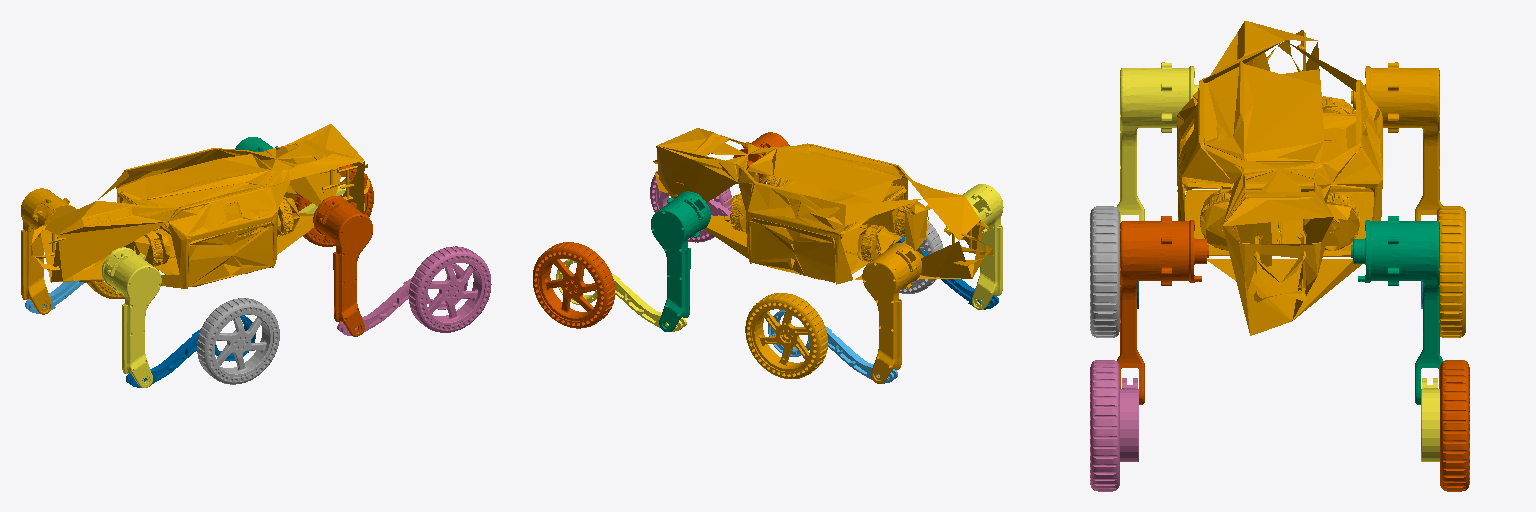
The robot description file, URDF, robot "VQR_01":
<?xml version="1.0" encoding="utf-8"?>
<!-- This URDF was automatically created by SolidWorks to URDF Exporter! Originally created by Stephen Brawner (brawner@gmail.com) 
     Commit Version: 1.6.0-4-g7f85cfe  Build Version: 1.6.7995.38578
     For more information, please see http://wiki.ros.org/sw_urdf_exporter -->
<robot name="VQR_01">
    <mujoco>
        <compiler meshdir="../meshes/" balanceinertia="false" discardvisual="false" fusestatic="false"/>
    </mujoco>
  <!-- <link name="base_link">
    <inertial>
      <origin xyz="0.0 0.0 0.0"/>
      <mass value="1e-12" />
      <inertia ixx="1e-12" ixy="0" ixz="0" iyy="1e-12" iyz="0" izz="1e-12" />
    </inertial>
  </link> -->

  <link name="TORSO">
    <inertial>
      <mass value="17.46" />
      <inertia ixx="0.241554" ixy="0" ixz="0" iyy="0.524066" iyz="0" izz="0.447501" />
    </inertial>
    <visual>
      <geometry>
        <mesh filename="../meshes/torso.STL"/>
      </geometry>
    </visual>
    <collision>
      <geometry>
        <box size="0.7 0.08 0.18"/>
      </geometry>
    </collision>
  </link>

  <!-- <joint name="base_joint" type="fixed">
    <parent link="base_link" />
    <child link="torso" />
  </joint> -->

  <link name="FL_HIP">
    <inertial>
      <origin xyz="0 0 0"/>
      <mass value="1" />
      <inertia ixx="0.00078043" ixy="0" ixz="0" iyy="0.00068757" iyz="0" izz="0.00078043" />
    </inertial>
    <visual>
      <origin xyz="-0.056 0 0" rpy="0 3.141592 0" />
      <geometry>
        <mesh filename="../meshes/hip.STL"/>
      </geometry>
    </visual>
  </link>

  <joint name="FL_HipX_joint" type="revolute">
    <origin xyz="0.1924 0.07 -0.0255"  />
    <parent link="TORSO" />
    <child link="FL_HIP" />
    <axis xyz="-1 0 0" />
    <dynamics damping="0.0" friction="0.0"/>
    <limit lower="-0.7854" upper="0.7854" effort="60" velocity="14.66" />
  </joint>

  <link name="FL_THIGH">
    <inertial>
      <origin xyz="0 0.06 -0.08"  />
      <mass value="1.5" />
      <inertia ixx="0.0104" ixy="0" ixz="0" iyy="0.0082" iyz="0" izz="0.0033"/>
    </inertial>
    <visual>
      <geometry>
        <mesh filename="../meshes/thigh.STL"/>
      </geometry>
    </visual>
    <collision>
      <origin xyz="-0.01 0.1 -0.07" rpy="0 0 0"/>
      <geometry>
        <box size="0.04 0.045 0.24"/>
      </geometry>
    </collision>
  </link>

  <joint name="FL_HipY_joint" type="revolute">
    <origin xyz="0.056 0.03 0"  />
    <parent link="FL_HIP" />
    <child link="FL_THIGH" />
    <axis xyz="0 -1 0" />
    <dynamics damping="0.0" friction="0.0"/>
    <limit lower="-3.4" upper="2.4" effort="60" velocity="14.66" />
  </joint>

  <link name="FL_SHANK">
    <inertial>
      <origin xyz="0 0.01 -0.08"  />
      <mass value="0.15" />
      <inertia ixx="0.00089039" ixy="0" ixz="0" iyy="0.00090672" iyz="0" izz="3.1266E-05" />
    </inertial>
    <visual>
      <geometry>
        <mesh filename="../meshes/shank.STL"/>
      </geometry>
    </visual>
    <collision>
      <origin xyz="0 0.01 -0.1" rpy="0 0 0"/>
      <geometry>
        <cylinder length="0.12" radius="0.015"/>
      </geometry>
    </collision>
  
  </link>

  <joint name="FL_Knee_joint" type="revolute">
    <origin xyz="0 0.094 -0.212"  />
    <parent link="FL_THIGH" />
    <child link="FL_SHANK" />
    <axis xyz="0 -1 0" />
    <dynamics damping="0.0" friction="0.0"/>
    <limit lower="0.8116" upper="2.7663" effort="60" velocity="14.66" />
  </joint>

  <link name="FR_HIP">
    <inertial>
      <origin xyz="0 0 0" rpy="3.14159 0 0" />
      <mass value="1" />
      <inertia ixx="0.00078043" ixy="0" ixz="0" iyy="0.00068757" iyz="0" izz="0.00078043" />
    </inertial>
    <visual>
      <origin xyz="-0.056 0 0" rpy="0 3.141592 0" />
      <geometry>
        <mesh filename="../meshes/hip.STL" scale="1 -1 1"/>
      </geometry>
    </visual>
  </link>

  <joint name="FR_HipX_joint" type="revolute">
    <origin xyz="0.1924 -0.07 -0.0255"  />
    <parent link="TORSO" />
    <child link="FR_HIP" />
    <axis xyz="-1 0 0" />
    <dynamics damping="0.0" friction="0.0"/>
    <limit lower="-0.7854" upper="0.7854" effort="60" velocity="14.66" />
  </joint>

  <link name="FR_THIGH">
    <inertial>
      <origin xyz="0 -0.06 -0.08"  />
      <mass value="1.5" />
      <!-- FIX: see FL_THIGH. Old tensor violated the inertia triangle inequality. -->
      <inertia ixx="0.0104" ixy="0" ixz="0" iyy="0.0082" iyz="0" izz="0.0033" />
    </inertial>
    <visual>
      <geometry>
        <mesh filename="../meshes/thigh.STL" scale="1 -1 1"/>
      </geometry>
    </visual>
    <collision>
      <!-- FIX: see FL_THIGH - closes the collision-free band around the knee joint. -->
      <origin xyz="-0.01 -0.1 -0.07" rpy="0 0 0"/>
      <geometry>
        <box size="0.04 0.045 0.24"/>
      </geometry>
    </collision>
  
  </link>

  <joint name="FR_HipY_joint" type="revolute">
    <origin xyz="0.056 -0.03 0"  />
    <parent link="FR_HIP" />
    <child link="FR_THIGH" />
    <axis xyz="0 -1 0" />
    <dynamics damping="0.0" friction="0.0"/>
    <limit lower="-3.4" upper="2.4" effort="60" velocity="14.66" />
  </joint>

  <link name="FR_SHANK">
    <inertial>
      <origin xyz="0 -0.01 -0.08"  />
      <mass value="0.15" />
      <inertia ixx="0.00089039" ixy="0" ixz="0" iyy="0.00090672" iyz="0" izz="3.1266E-05" />
    </inertial>
    <visual>
      <geometry>
        <mesh filename="../meshes/shank.STL" scale="1 -1 1"/>
      </geometry>
    </visual>
    <collision>
      <origin xyz="0 -0.01 -0.1" rpy="0 0 0"/>
      <geometry>
        <cylinder length="0.12" radius="0.015"/>
      </geometry>
    </collision>
  
  </link>

  <joint name="FR_Knee_joint" type="revolute">
    <origin xyz="0 -0.094 -0.212"  />
    <parent link="FR_THIGH" />
    <child link="FR_SHANK" />
    <axis xyz="0 -1 0" />
    <dynamics damping="0.0" friction="0.0"/>
    <limit lower="0.8116" upper="2.7663" effort="60" velocity="14.66" />
  </joint>

  <link name="HL_HIP">
    <inertial>
      <origin xyz="0 0 0" rpy="0 3.14159 0" />
      <mass value="1" />
      <inertia ixx="0.00078043" ixy="0" ixz="0" iyy="0.00068757" iyz="0" izz="0.00078043" />
    </inertial>
    <visual>
      <origin xyz="0.056 0 0" rpy="0 3.141592 0" />
      <geometry>
        <mesh filename="../meshes/hip.STL" scale="-1 1 1"/>
      </geometry>
    </visual>
  </link>

  <joint name="HL_HipX_joint" type="revolute">
    <origin xyz="-0.1924 0.07 -0.0255"  />
    <parent link="TORSO" />
    <child link="HL_HIP" />
    <axis xyz="-1 0 0" />
    <dynamics damping="0.0" friction="0.0"/>
    <limit lower="-0.7854" upper="0.7854" effort="60" velocity="14.66" />
  </joint>

  <link name="HL_THIGH">
    <inertial>
      <origin xyz="0 0.06 -0.08"  />
      <mass value="1.5" />
      <inertia ixx="0.0104" ixy="0" ixz="0" iyy="0.0082" iyz="0" izz="0.0033" />
    </inertial>
    <visual>
      <geometry>
        <mesh filename="../meshes/thigh.STL"/>
      </geometry>
    </visual>
    <collision>
      <origin xyz="-0.01 0.1 -0.07" rpy="0 0 0"/>
      <geometry>
        <box size="0.04 0.045 0.24"/>
      </geometry>
    </collision>
  
  </link>

  <joint name="HL_HipY_joint" type="revolute">
    <origin xyz="-0.056 0.03 0"  />
    <parent link="HL_HIP" />
    <child link="HL_THIGH" />
    <axis xyz="0 -1 0" />
    <dynamics damping="0.0" friction="0.0"/>
    <limit lower="-3.4" upper="2.4" effort="60" velocity="14.66" />
  </joint>

  <link name="HL_SHANK">
    <inertial>
      <origin xyz="0 0.01 -0.08"  />
      <mass value="0.15" />
      <inertia ixx="0.00089039" ixy="0" ixz="0" iyy="0.00090672" iyz="0" izz="3.1266E-05" />
    </inertial>
    <visual>
      <geometry>
        <mesh filename="../meshes/shank.STL"/>
      </geometry>
    </visual>
    <collision>
      <origin xyz="0 0.01 -0.1" rpy="0 0 0"/>
      <geometry>
        <cylinder length="0.12" radius="0.015"/>
      </geometry>
    </collision>
  
  </link>

  <joint name="HL_Knee_joint" type="revolute">
    <origin xyz="0 0.094 -0.212"  />
    <parent link="HL_THIGH" />
    <child link="HL_SHANK" />
    <axis xyz="0 -1 0" />
    <dynamics damping="0.0" friction="0.0"/>
    <limit lower="0.8116" upper="2.7663" effort="60" velocity="14.66" />
  </joint>

  <link name="HR_HIP">
    <inertial>
      <origin xyz="0 0 0" rpy="3.14159 3.14159 0" />
      <mass value="1" />
      <inertia ixx="0.00078043" ixy="0" ixz="0" iyy="0.00068757" iyz="0" izz="0.00078043" />
    </inertial>
    <visual>
      <origin xyz="0.056 0 0" rpy="0 3.141592 0" />
      <geometry>
        <mesh filename="../meshes/hip.STL" scale="-1 -1 1"/>
      </geometry>
    </visual>
  </link>

  <joint name="HR_HipX_joint" type="revolute">
    <origin xyz="-0.1924 -0.07 -0.0255"  />
    <parent link="TORSO" />
    <child link="HR_HIP" />
    <axis xyz="-1 0 0" />
    <dynamics damping="0.0" friction="0.0"/>
    <limit lower="-0.7854" upper="0.7854" effort="60" velocity="14.66" />
  </joint>

  <link name="HR_THIGH">
    <inertial>
      <origin xyz="0 -0.06 -0.08"  />
      <mass value="1.5" />
      <inertia ixx="0.0104" ixy="0" ixz="0" iyy="0.0082" iyz="0" izz="0.0033" />
    </inertial>
    <visual>
      <geometry>
        <mesh filename="../meshes/thigh.STL" scale="1 -1 1"/>
      </geometry>
    </visual>
    <collision>
      <origin xyz="-0.01 -0.1 -0.07" rpy="0 0 0"/>
      <geometry>
        <box size="0.04 0.045 0.24"/>
      </geometry>
    </collision>
  
  </link>

  <joint name="HR_HipY_joint" type="revolute">
    <origin xyz="-0.056 -0.03 0"  />
    <parent link="HR_HIP" />
    <child link="HR_THIGH" />
    <axis xyz="0 -1 0" />
    <dynamics damping="0.0" friction="0.0"/>
    <limit lower="-3.4" upper="2.4" effort="60" velocity="14.66" />
  </joint>

  <link name="HR_SHANK">
    <inertial>
      <origin xyz="0 -0.01 -0.08"  />
      <mass value="0.15" />
      <inertia ixx="0.00089039" ixy="0" ixz="0" iyy="0.00090672" iyz="0" izz="3.1266E-05" />
    </inertial>
    <visual>
      <geometry>
        <mesh filename="../meshes/shank.STL" scale="1 -1 1"/>
      </geometry>
    </visual>
    <collision>
      <origin xyz="0 -0.01 -0.1" rpy="0 0 0"/>
      <geometry>
        <cylinder length="0.12" radius="0.015"/>
      </geometry>
    </collision>
  
  </link>

  <joint name="HR_Knee_joint" type="revolute">
    <origin xyz="0 -0.094 -0.212"  />
    <parent link="HR_THIGH" />
    <child link="HR_SHANK" />
    <axis xyz="0 -1 0" />
    <dynamics damping="0.0" friction="0.0"/>
    <limit lower="0.8116" upper="2.7663" effort="60" velocity="14.66" />
  </joint>

  <link name="FL_WHEEL">
    <inertial>
      <mass value="1.2" />
      <inertia ixx="0.0026443" ixy="0" ixz="0" iyy="0.0049686" iyz="0" izz="0.0026443" />
    </inertial>
    <visual>
      <origin xyz="0 0 0" rpy="0 0 3.14159" />
      <geometry>
        <mesh filename="../meshes/wheel.STL" scale="1 1 1"/>
      </geometry>
    </visual>
    <collision>
      <origin xyz="0 0 0" rpy="1.5709 0 0"/>
      <geometry>
        <cylinder length="0.04" radius="0.091"/>
      </geometry>
    </collision>
  </link>

  <joint name="FL_WHEEL" type="continuous">
    <origin xyz="0 0.0425 -0.213"/>
    <parent link="FL_SHANK" />
    <child link="FL_WHEEL" />
    <axis xyz="0 -1 0" />
    <limit effort="20" velocity="58.90" />
  </joint>


  <link name="FR_WHEEL">
    <inertial>
      <mass value="1.2" />
      <inertia ixx="0.0026443" ixy="0" ixz="0" iyy="0.0049686" iyz="0" izz="0.0026443" />
    </inertial>
    <visual>
      <origin xyz="0 0 0" rpy="0 0 0" />
      <geometry>
        <mesh filename="../meshes/wheel.STL" scale="1 1 1"/>
      </geometry>
    </visual>
    <collision>
      <origin xyz="0 0 0" rpy="1.5709 0 0"/>
      <geometry>
        <cylinder length="0.04" radius="0.091"/>
      </geometry>
    </collision>
  </link>

  <joint name="FR_WHEEL" type="continuous">
    <origin xyz="0 -0.0425 -0.213"/>
    <parent link="FR_SHANK" />
    <child link="FR_WHEEL" />
    <axis xyz="0 -1 0" />
    <limit effort="20" velocity="58.90" />
  </joint>


    <link name="HR_WHEEL">
    <inertial>
      <mass value="1.2" />
      <inertia ixx="0.0026443" ixy="0" ixz="0" iyy="0.0049686" iyz="0" izz="0.0026443" />
    </inertial>
    <visual>
      <origin xyz="0 0 0" rpy="0 0 0" />
      <geometry>
        <mesh filename="../meshes/wheel.STL" scale="1 1 1"/>
      </geometry>
    </visual>
    <collision>
      <origin xyz="0 0 0" rpy="1.5709 0 0"/>
      <geometry>
        <cylinder length="0.04" radius="0.091"/>
      </geometry>
    </collision>
  </link>

  <joint name="HR_WHEEL" type="continuous">
    <origin xyz="0 -0.0425 -0.213"/>
    <parent link="HR_SHANK" />
    <child link="HR_WHEEL" />
    <axis xyz="0 -1 0" />
    <limit effort="20" velocity="58.90" />
  </joint>

  <link name="HL_WHEEL">
    <inertial>
      <mass value="1.2" />
      <inertia ixx="0.0026443" ixy="0" ixz="0" iyy="0.0049686" iyz="0" izz="0.0026443" />
    </inertial>
    <visual>
      <origin xyz="0 0 0" rpy="0 0 0" />
      <geometry>
        <mesh filename="../meshes/wheel.STL" scale="1 1 1"/>
      </geometry>
    </visual>
    <collision>
      <origin xyz="0 0 0" rpy="1.5709 0 0"/>
      <geometry>
        <cylinder length="0.04" radius="0.091"/>
      </geometry>
    </collision>
  </link>

  <joint name="HL_WHEEL" type="continuous">
    <origin xyz="0 0.0425 -0.213"/>
    <parent link="HL_SHANK" />
    <child link="HL_WHEEL" />
    <axis xyz="0 -1 0" />
    <limit effort="20" velocity="58.90" />
  </joint>

</robot>

--- Render facts (derived) ---
The picture shows the robot from 3 angles, left to right: view 1: azimuth 30°, elevation 25°; view 2: azimuth 150°, elevation 25°; view 3: azimuth 270°, elevation 25°; orthographic projection.
Robot: VQR_01 — 17 links, 16 joints (12 revolute, 4 continuous); root link TORSO; default pose: all joints at 0 but 4 set to mid-range because 0 is outside their limits (FL_Knee_joint = 1.79, FR_Knee_joint = 1.79, HL_Knee_joint = 1.79, HR_Knee_joint = 1.79).
Links seen in each view (by area): view 1: TORSO, FR_WHEEL, HR_WHEEL, FR_THIGH, HR_THIGH, HL_THIGH, HR_SHANK, FR_SHANK, FL_WHEEL, HL_SHANK; view 2: TORSO, FL_WHEEL, HL_WHEEL, FL_THIGH, HL_THIGH, HR_THIGH, HL_SHANK, FL_SHANK, HR_WHEEL, FR_WHEEL, FR_THIGH, HR_SHANK; view 3: TORSO, FL_THIGH, FR_THIGH, HR_THIGH, HL_THIGH, HR_WHEEL, FL_WHEEL, FR_WHEEL, HL_WHEEL, FL_SHANK, FR_SHANK.
Boxes of the visible links, <box> form: TORSO: <box>31,124,369,288</box>; FR_WHEEL: <box>409,246,491,332</box>; HR_WHEEL: <box>197,298,279,384</box>; FR_THIGH: <box>313,196,372,336</box>; HR_THIGH: <box>102,247,161,387</box>; HL_THIGH: <box>21,188,76,314</box>; HR_SHANK: <box>126,315,255,387</box>; FR_SHANK: <box>337,263,467,336</box>; FL_WHEEL: <box>292,164,373,246</box>; HL_SHANK: <box>25,281,83,313</box>; TORSO: <box>653,128,993,284</box>; FL_WHEEL: <box>533,242,614,328</box>; HL_WHEEL: <box>745,293,827,378</box>; FL_THIGH: <box>651,191,710,331</box>; HL_THIGH: <box>862,243,921,383</box>; HR_THIGH: <box>946,184,1003,309</box>; HL_SHANK: <box>768,310,897,383</box>; FL_SHANK: <box>556,259,686,331</box>; HR_WHEEL: <box>868,220,942,293</box>; FR_WHEEL: <box>650,172,732,242</box>; FR_THIGH: <box>733,132,789,183</box>; HR_SHANK: <box>896,237,998,309</box>; TORSO: <box>1177,21,1382,335</box>; FL_THIGH: <box>1351,216,1442,404</box>; FR_THIGH: <box>1117,216,1208,404</box>; HR_THIGH: <box>1117,62,1198,222</box>; HL_THIGH: <box>1351,62,1442,220</box>; HR_WHEEL: <box>1090,206,1119,337</box>; FL_WHEEL: <box>1440,360,1469,491</box>; FR_WHEEL: <box>1090,360,1119,491</box>; HL_WHEEL: <box>1437,206,1465,337</box>; FL_SHANK: <box>1421,378,1439,461</box>; FR_SHANK: <box>1120,378,1138,461</box>.
Size in the robot's own frame: 0.9327 by 0.518 by 0.3595 metres.
13 mesh visuals loaded from 5 distinct referenced files (4 binary STL); not drawn: 4 (reference not matched to a file when rendering).
